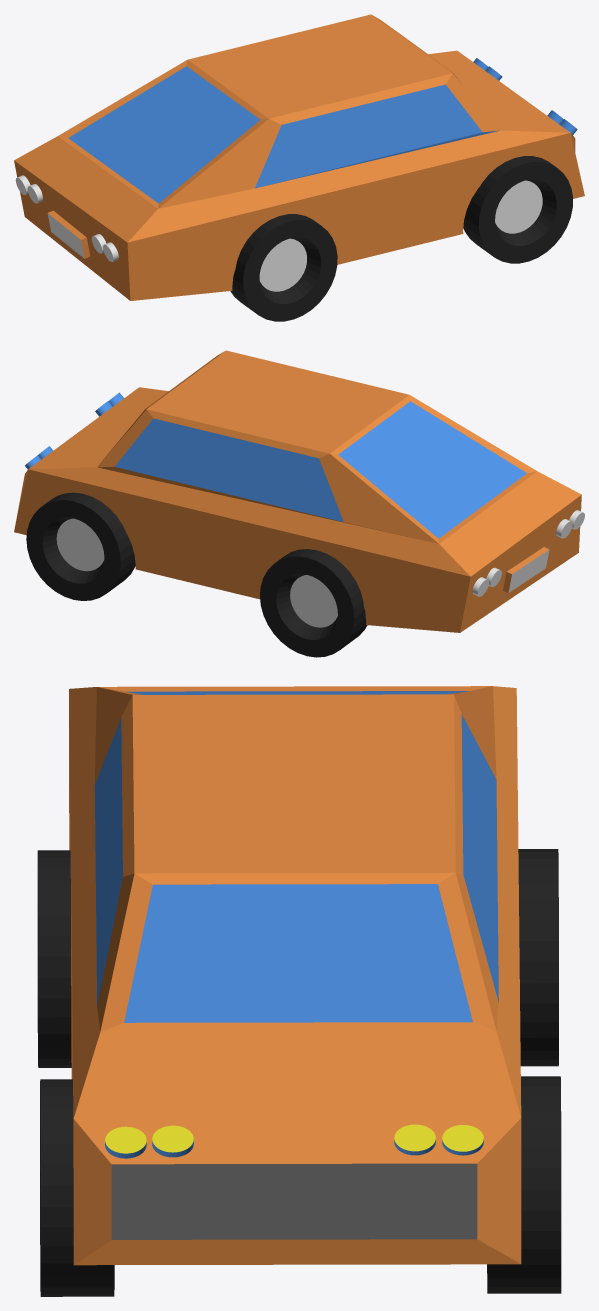
The model's file is car1.fbx.
3 views of the same model, one above another, from view 1: azimuth 30°, elevation 25°; view 2: azimuth 150°, elevation 25°; view 3: azimuth 270°, elevation 25° (orthographic). The views are drawn at different scales.
Visible parts, largest first — view 1: Cube.005, wheel.008, wheel.007; view 2: Cube.005, wheel.005, wheel.006; view 3: Cube.005, wheel.005, wheel.008, wheel.006, wheel.007.
Part boxes in pixels (<box>): Cube.005: <box>14,14,584,300</box>; wheel.008: <box>463,156,572,263</box>; wheel.007: <box>230,214,337,321</box>; Cube.005: <box>14,350,584,632</box>; wheel.005: <box>26,492,135,600</box>; wheel.006: <box>260,549,367,657</box>; Cube.005: <box>69,686,521,1265</box>; wheel.005: <box>487,1076,561,1293</box>; wheel.008: <box>40,1079,114,1296</box>; wheel.006: <box>518,849,558,1066</box>; wheel.007: <box>37,850,71,1067</box>.
Bounding box in the file's own units: 1573 × 585 × 761.
